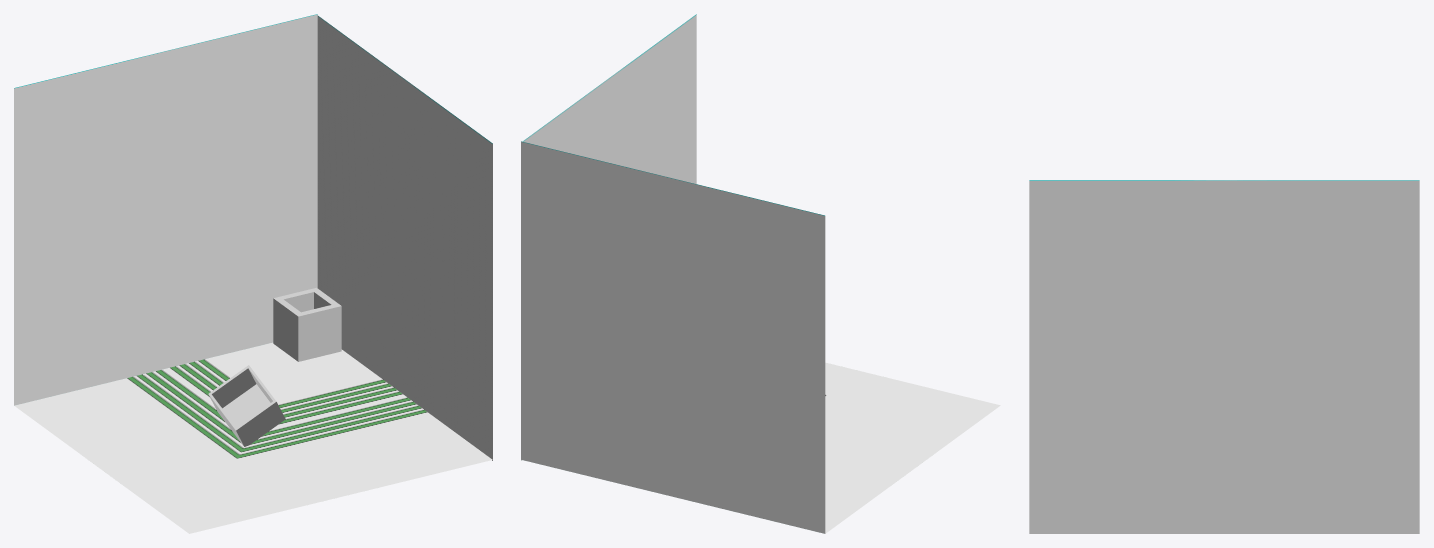
3 renders of one model, left to right at view 1: azimuth 30°, elevation 25°; view 2: azimuth 150°, elevation 25°; view 3: azimuth 270°, elevation 25°, orthographic. The views are drawn at different scales.
Parts seen in each view (by area): view 1: left plane, right plane, lower plane, light cube, center cube; view 2: left plane, lower plane, right plane; view 3: right plane.
Part boxes in pixels (left/top/right/bottom): left plane: left=14, top=14, right=317, bottom=405; right plane: left=317, top=15, right=492, bottom=460; lower plane: left=14, top=342, right=492, bottom=533; light cube: left=273, top=287, right=341, bottom=361; center cube: left=208, top=365, right=285, bottom=446; left plane: left=521, top=141, right=825, bottom=533; lower plane: left=825, top=362, right=1000, bottom=533; right plane: left=521, top=14, right=696, bottom=460; right plane: left=1029, top=180, right=1419, bottom=533.
Size of the model in its own units: 140 by 141 by 140.
